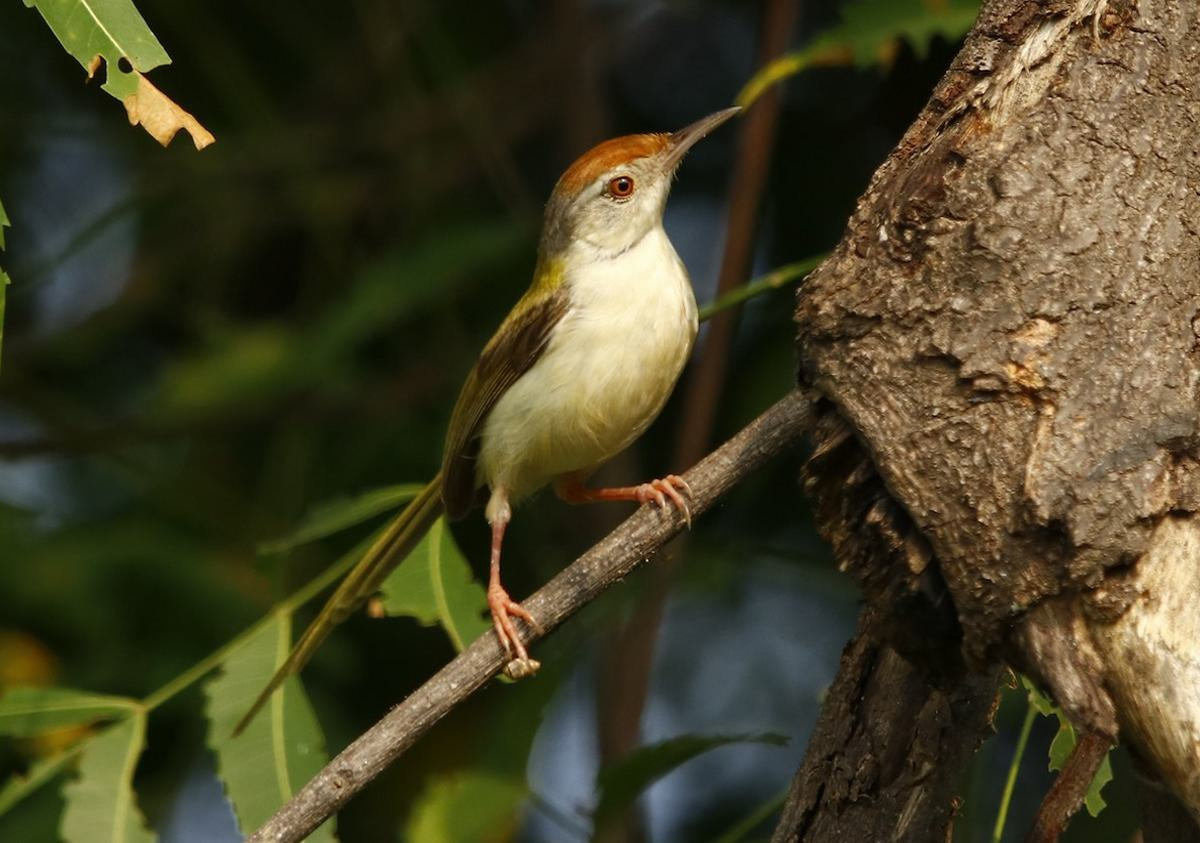tailorbird: (295, 89, 749, 692)
